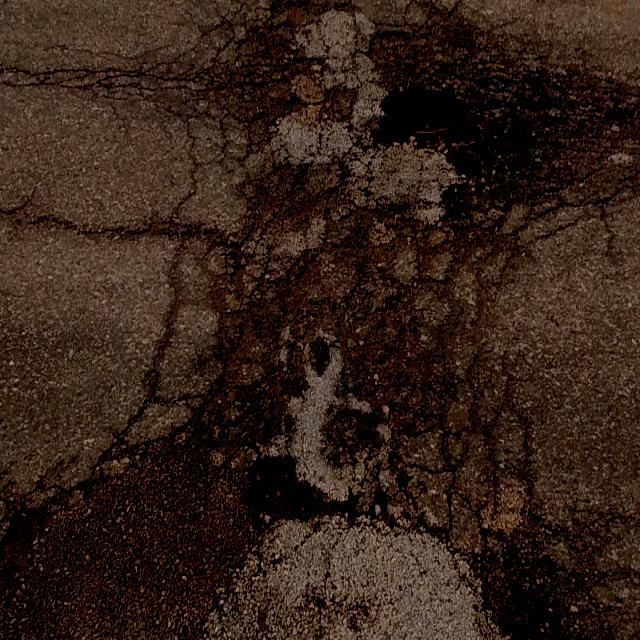Pothole: (364, 46, 550, 244)
